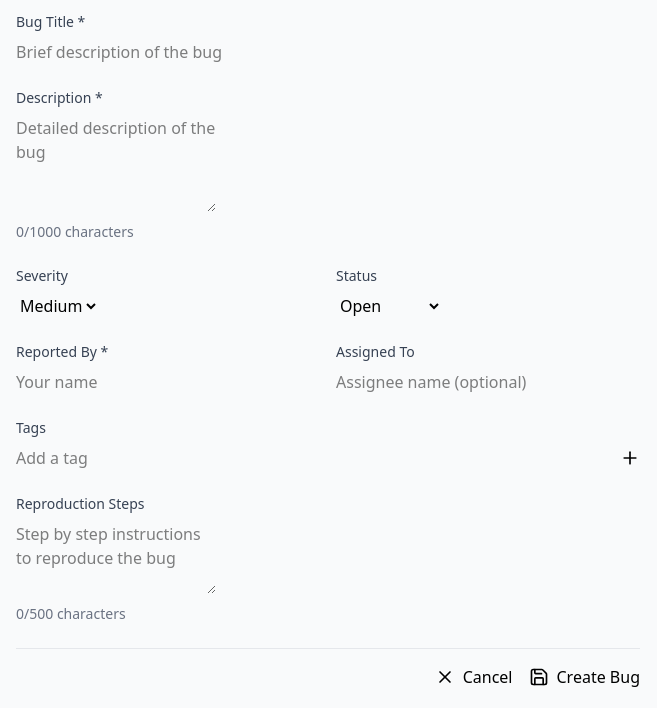
BugForm Component › shows validation errors when submitting empty form
(page scrolled)
Click the button "Create Bug" at (584, 677), box [528,665,640,689]
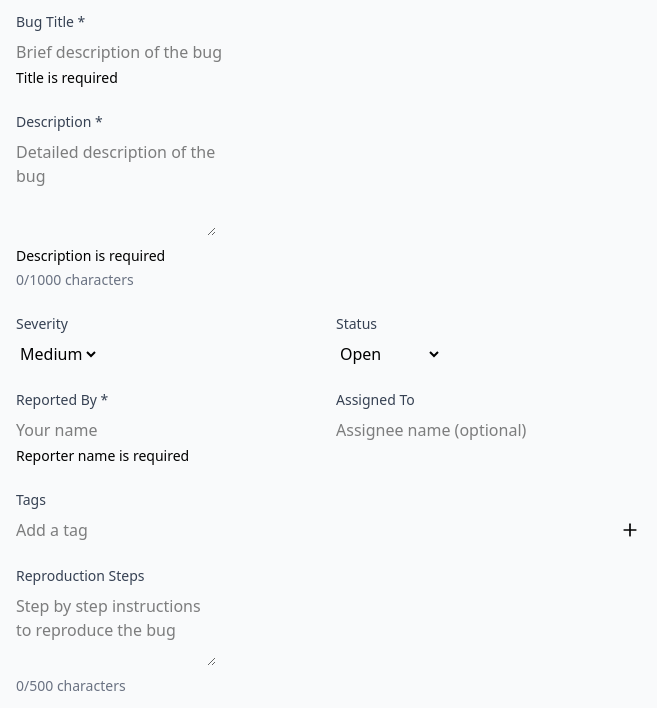
Now the text "Title is required" is shown, box [16,68,118,87]
Now the text "Description is required" is shown, box [16,246,165,265]
Now the text "Reporter name is required" is shown, box [16,446,189,465]
